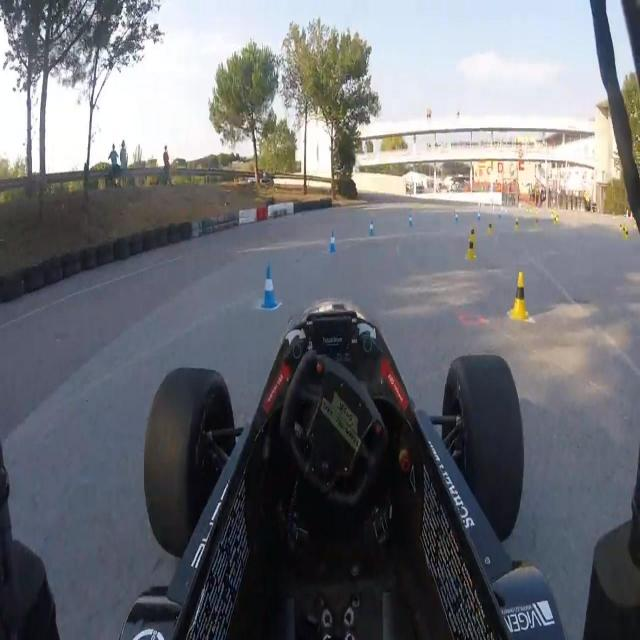blue_cone: (258, 263, 282, 314), (325, 228, 337, 254), (367, 220, 376, 238), (453, 212, 459, 225), (476, 210, 482, 222), (409, 213, 413, 228)
yellow_cone: (510, 269, 530, 322), (466, 239, 476, 261), (468, 226, 476, 243), (487, 220, 494, 237), (514, 217, 520, 232), (535, 217, 540, 228), (556, 213, 560, 223), (554, 214, 557, 226)
